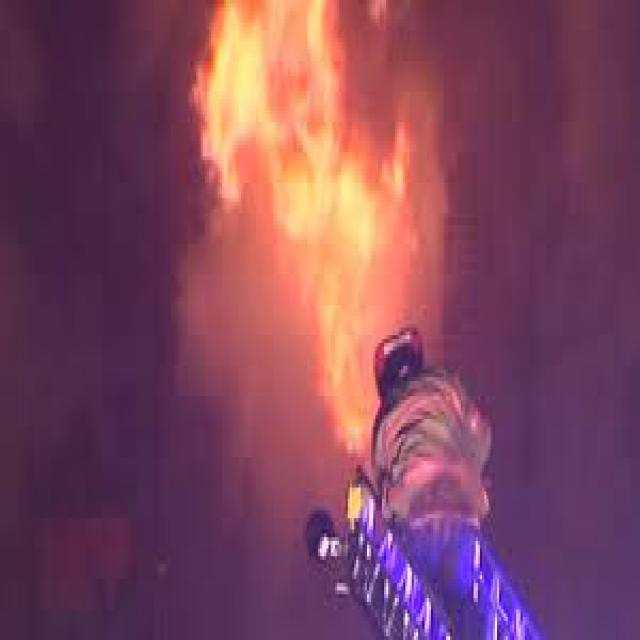fire: (201, 8, 465, 461)
